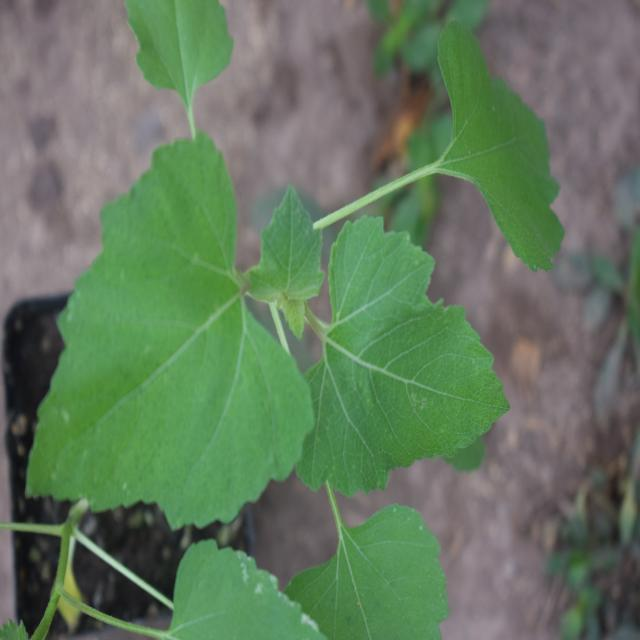cocklebur: (55, 66, 557, 604)
